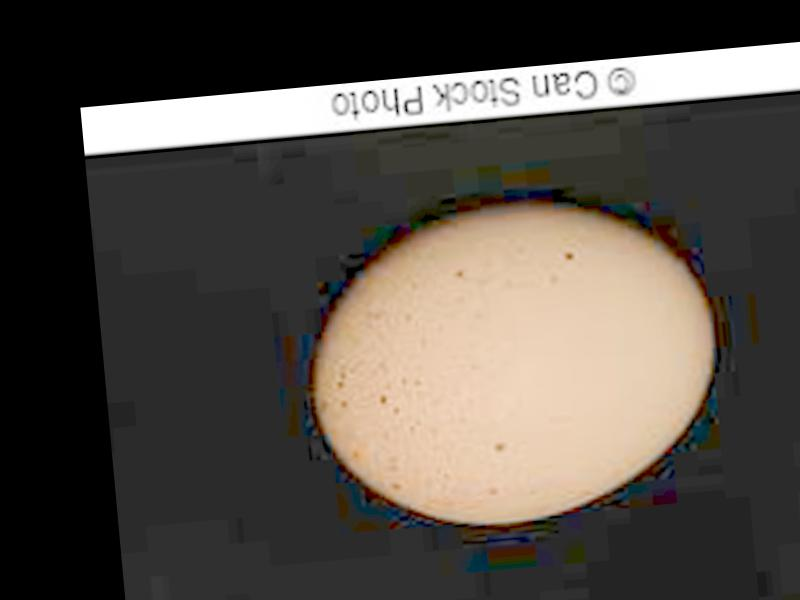Eggs: (302, 186, 728, 537)
